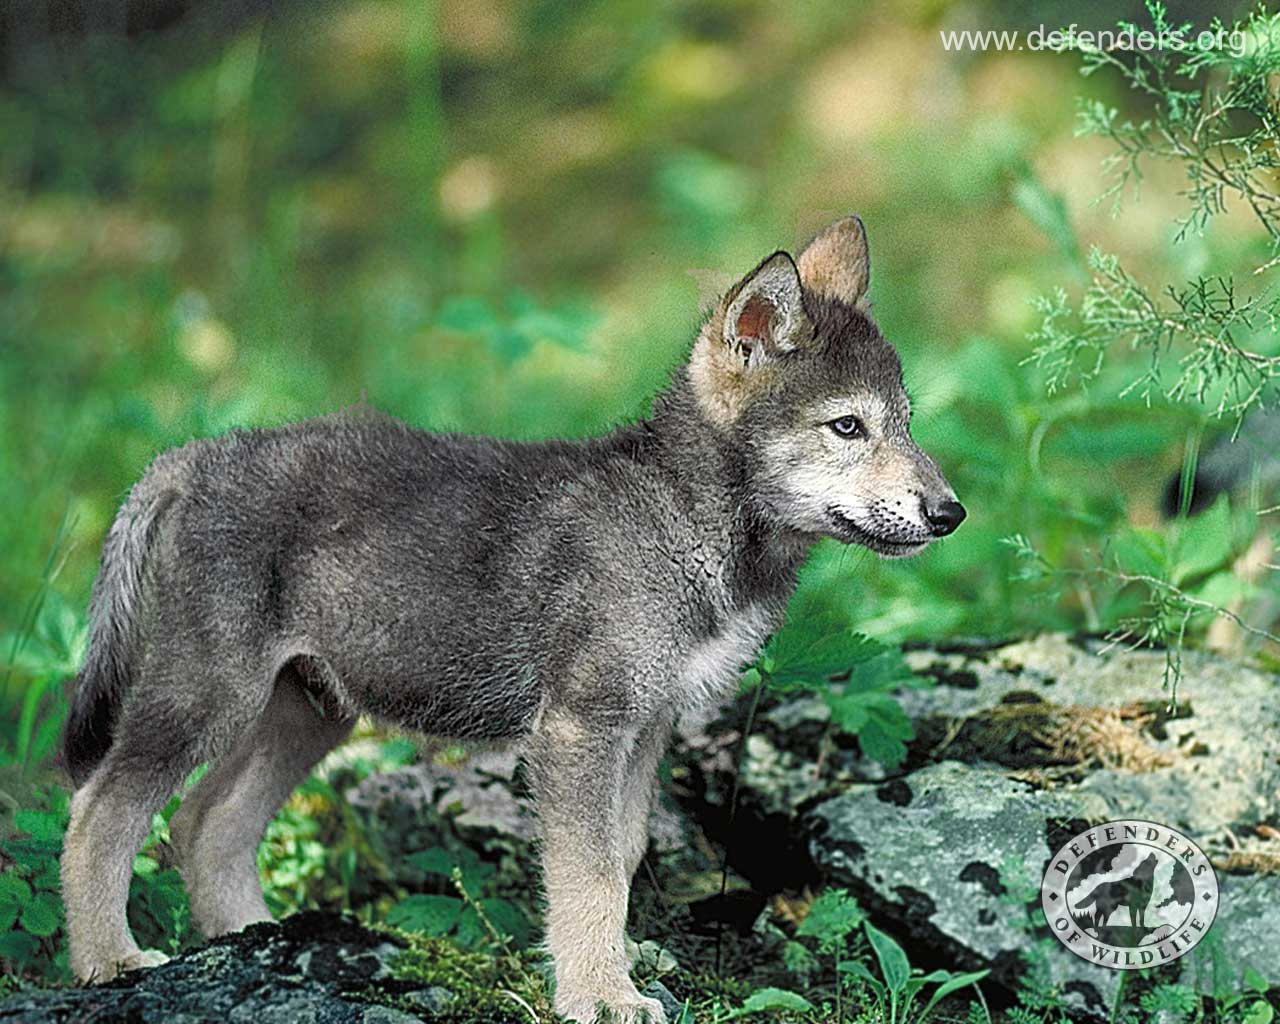Lobo: (41, 212, 955, 970)
